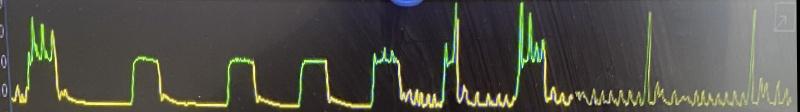hydrop_pressure: (355, 1, 789, 112), (2, 9, 112, 112)
normal_pressure: (115, 40, 339, 112)
